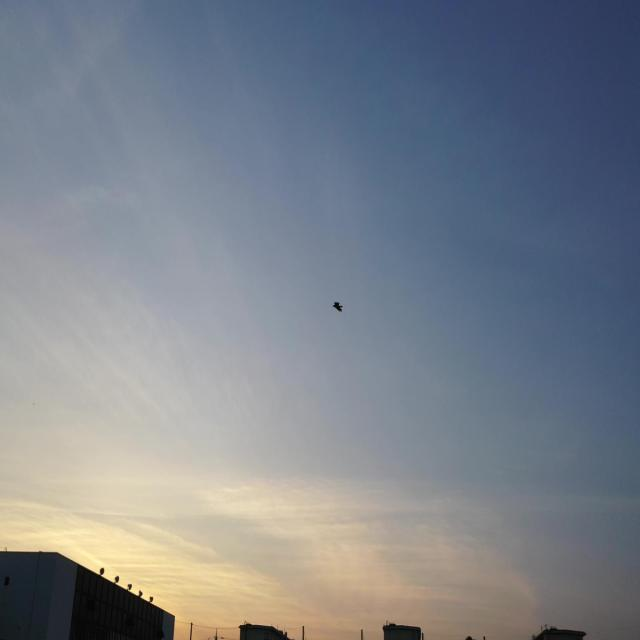Birds: (330, 292, 344, 318)
